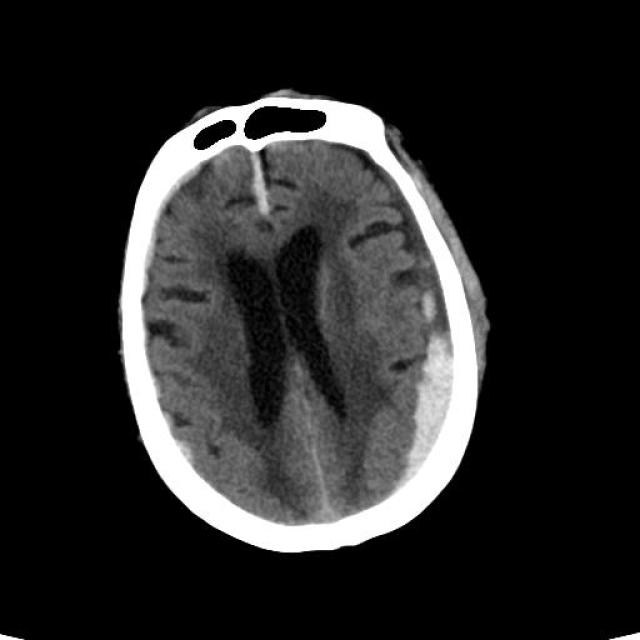Subdural: (102, 153, 212, 465), (389, 256, 456, 488), (233, 109, 285, 235)
